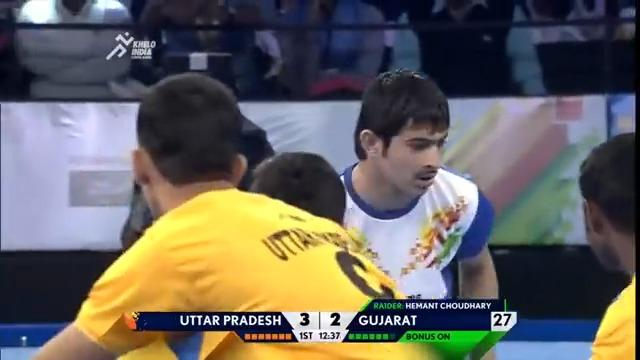Player: (30, 71, 435, 358), (576, 131, 637, 358)
Raider: (334, 67, 502, 358)
referee: (118, 71, 275, 252)
